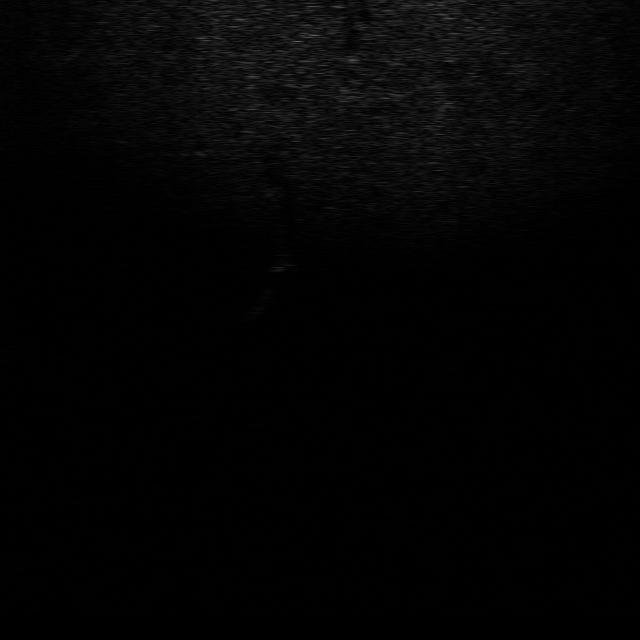human body: (246, 266, 288, 324)
